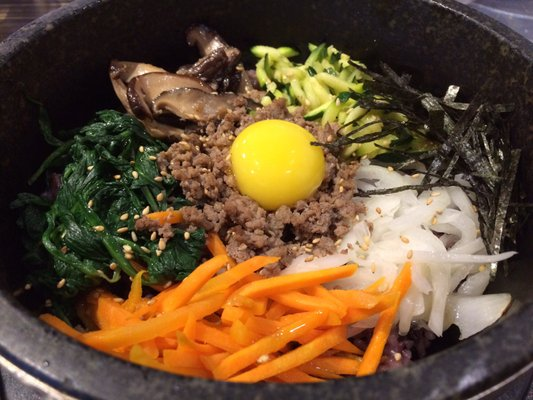curry: (34, 110, 198, 294)
